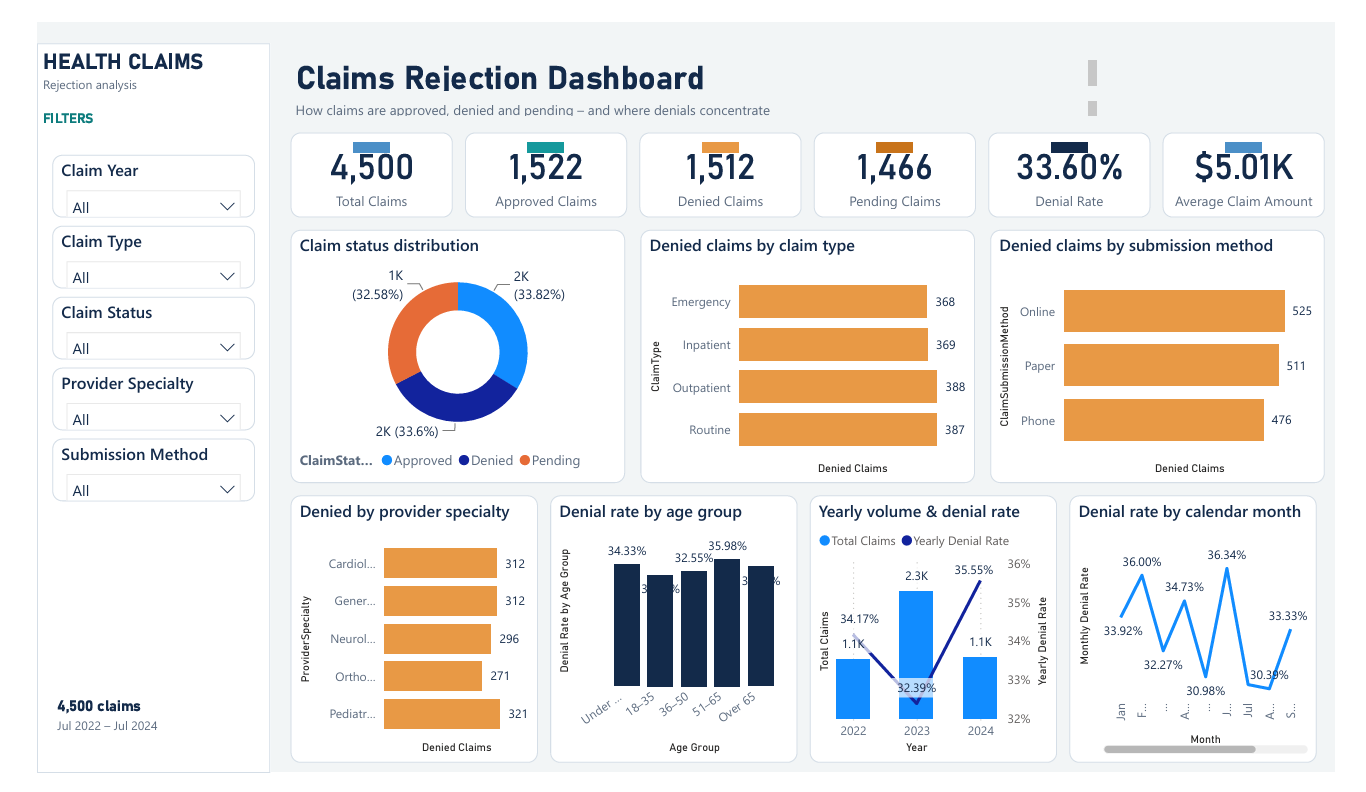

This screenshot's page, from the dashboard's own definition file:
{"tool":"powerbi","page":{"name":"Interactive Claims Dashboard","canvas":[1280,720],"ordinal":0},"visuals":[{"type":"textbox","box":[0,0,230,720],"z":1},{"type":"slicer","title":"Claim Year","fields":{"Values":["Claims.Year"]},"box":[15,110,200,62],"z":2},{"type":"slicer","title":"Claim Type","fields":{"Values":["Claims.ClaimType"]},"box":[15,180,200,62],"z":3},{"type":"slicer","title":"Claim Status","fields":{"Values":["Claims.ClaimStatus"]},"box":[15,250,200,62],"z":4},{"type":"slicer","title":"Provider Specialty","fields":{"Values":["Claims.ProviderSpecialty"]},"box":[15,320,200,62],"z":5},{"type":"slicer","title":"Submission Method","fields":{"Values":["Claims.ClaimSubmissionMethod"]},"box":[15,390,200,62],"z":6},{"type":"textbox","box":[15,640,200,60],"z":7},{"type":"textbox","box":[250,12,800,40],"z":8},{"type":"textbox","box":[250,52,800,24],"z":9},{"type":"card","fields":{"Values":["Claims.Total Claims"]},"box":[250,88,160,84],"z":10},{"type":"textbox","box":[312,98,36,4],"z":11},{"type":"card","fields":{"Values":["Claims.Approved Claims"]},"box":[422,88,160,84],"z":12},{"type":"textbox","box":[484,98,36,4],"z":13},{"type":"card","fields":{"Values":["Claims.Denied Claims"]},"box":[594,88,160,84],"z":14},{"type":"textbox","box":[656,98,36,4],"z":15},{"type":"card","fields":{"Values":["Claims.Pending Claims"]},"box":[766,88,160,84],"z":16},{"type":"textbox","box":[828,98,36,4],"z":17},{"type":"card","fields":{"Values":["Claims.Denial Rate"]},"box":[938,88,160,84],"z":18},{"type":"textbox","box":[1000,98,36,4],"z":19},{"type":"card","fields":{"Values":["Claims.Average Claim Amount"]},"box":[1110,88,160,84],"z":20},{"type":"textbox","box":[1172,98,36,4],"z":21},{"type":"donutChart","title":"Claim status distribution","fields":{"Category":["Claims.ClaimStatus"],"Y":["Claims.Total Claims"]},"box":[250,184,330,250],"z":22},{"type":"clusteredBarChart","title":"Denied claims by claim type","fields":{"Category":["Claims.ClaimType"],"Y":["Claims.Denied Claims"]},"box":[595,184,330,250],"z":23},{"type":"clusteredBarChart","title":"Denied claims by submission method","fields":{"Category":["Claims.ClaimSubmissionMethod"],"Y":["Claims.Denied Claims"]},"box":[940,184,330,250],"z":24},{"type":"clusteredBarChart","title":"Denied by provider specialty","fields":{"Category":["Claims.ProviderSpecialty"],"Y":["Claims.Denied Claims"]},"box":[250,446,244,264],"z":25},{"type":"clusteredColumnChart","title":"Denial rate by age group","fields":{"Category":["Claims.Age Group"],"Y":["Claims.Denial Rate by Age Group"]},"box":[506,446,244,264],"z":26},{"type":"lineClusteredColumnComboChart","title":"Yearly volume & denial rate","fields":{"Category":["Claims.Year"],"Y":["Claims.Total Claims"],"Y2":["Claims.Yearly Denial Rate"]},"box":[762,446,244,264],"z":27},{"type":"lineChart","title":"Denial rate by calendar month","fields":{"Category":["Claims.Month"],"Y":["Claims.Monthly Denial Rate"]},"box":[1018,446,244,264],"z":28}]}

Visuals, with their boxes in screenshot pixels (x1, y1, x2, y2), scaled from the page's 1280x720 canvas onto the 1366x792 screenshot:
textbox: [0,0,245,791]
"Claim Year" slicer: [16,121,229,189]
"Claim Type" slicer: [16,198,229,266]
"Claim Status" slicer: [16,275,229,343]
"Provider Specialty" slicer: [16,352,229,420]
"Submission Method" slicer: [16,429,229,497]
textbox: [16,704,229,770]
textbox: [267,13,1121,57]
textbox: [267,57,1121,84]
card - Claims.Total Claims: [267,97,438,189]
textbox: [333,108,371,112]
card - Claims.Approved Claims: [450,97,621,189]
textbox: [517,108,555,112]
card - Claims.Denied Claims: [634,97,805,189]
textbox: [700,108,738,112]
card - Claims.Pending Claims: [817,97,988,189]
textbox: [884,108,922,112]
card - Claims.Denial Rate: [1001,97,1172,189]
textbox: [1067,108,1106,112]
card - Claims.Average Claim Amount: [1185,97,1355,189]
textbox: [1251,108,1289,112]
"Claim status distribution" donutChart: [267,202,619,477]
"Denied claims by claim type" clusteredBarChart: [635,202,987,477]
"Denied claims by submission method" clusteredBarChart: [1003,202,1355,477]
"Denied by provider specialty" clusteredBarChart: [267,491,527,781]
"Denial rate by age group" clusteredColumnChart: [540,491,800,781]
"Yearly volume & denial rate" lineClusteredColumnComboChart: [813,491,1074,781]
"Denial rate by calendar month" lineChart: [1086,491,1347,781]
